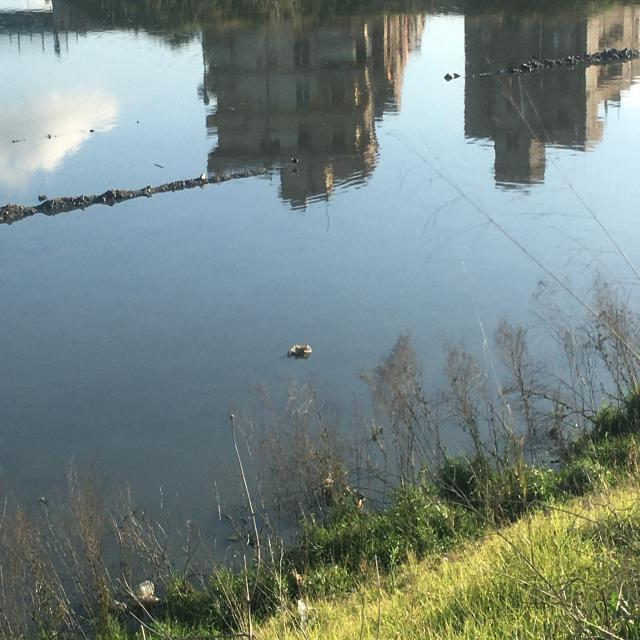Plastic bag: (286, 344, 312, 361)
Plastic bottle: (133, 578, 156, 598)
